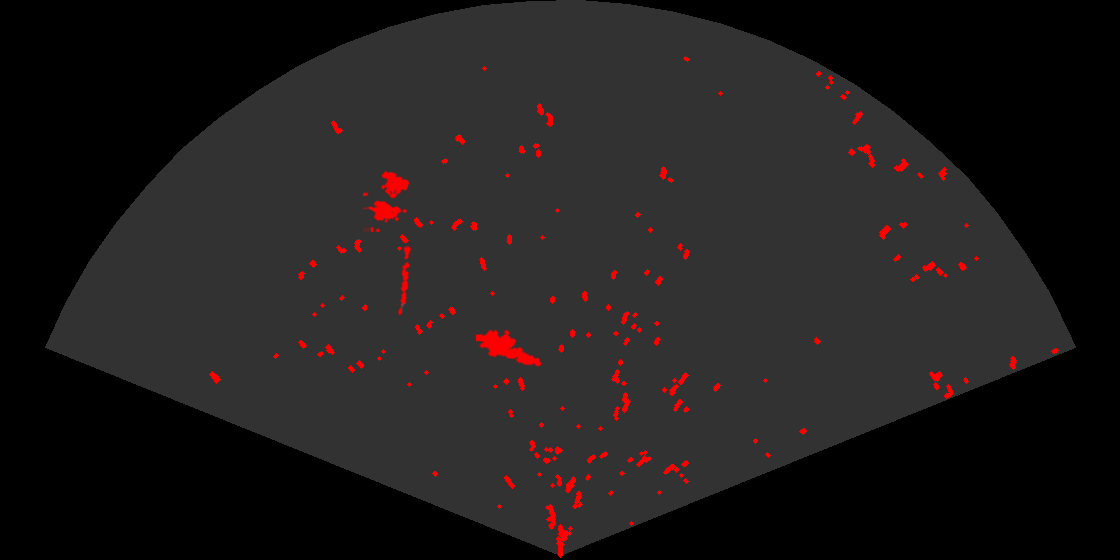cage: (363, 169, 411, 232)
chain: (396, 245, 413, 317)
frogman: (476, 328, 543, 368)
